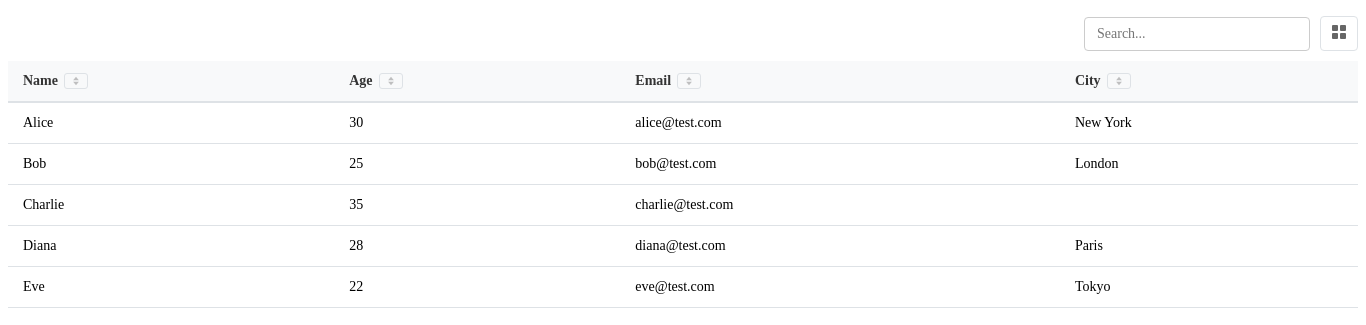
Test: Table Component › Column Visibility › shows column when toggled back on
This screenshot has width=1366, height=325.
Click the button named "Toggle column visibility" at x=1339, y=34, box 1320,16 -> 1358,51
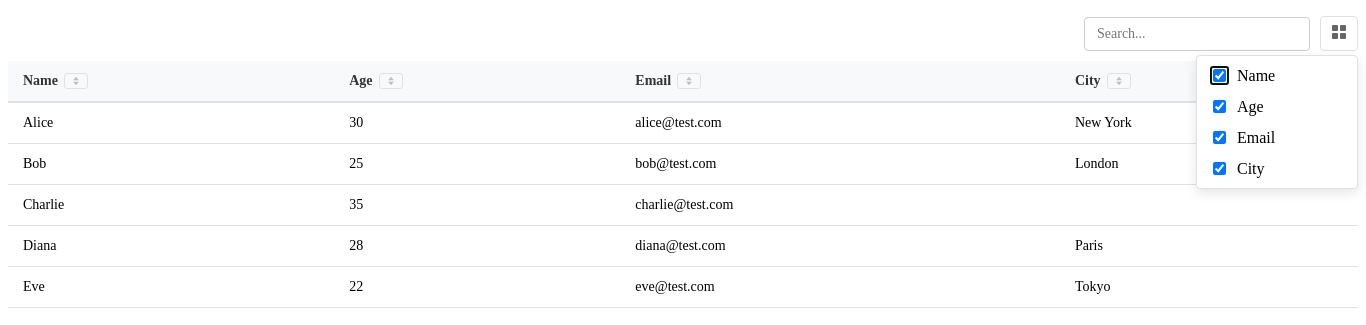
Click the checkbox labelled "Name" at x=1220, y=76, box 1213,69 -> 1226,82
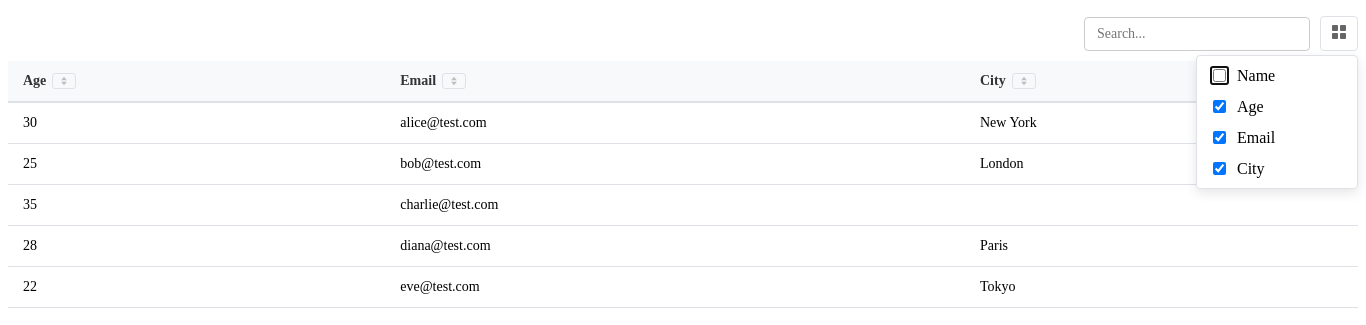
Click the checkbox labelled "Name" at x=1220, y=76, box 1213,69 -> 1226,82
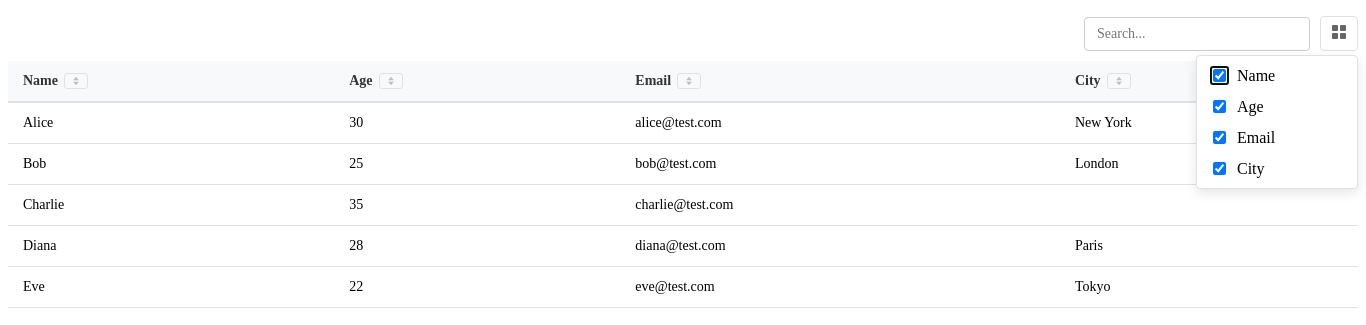
expect the text "Alice" is shown: met, box 8,102 -> 334,144
